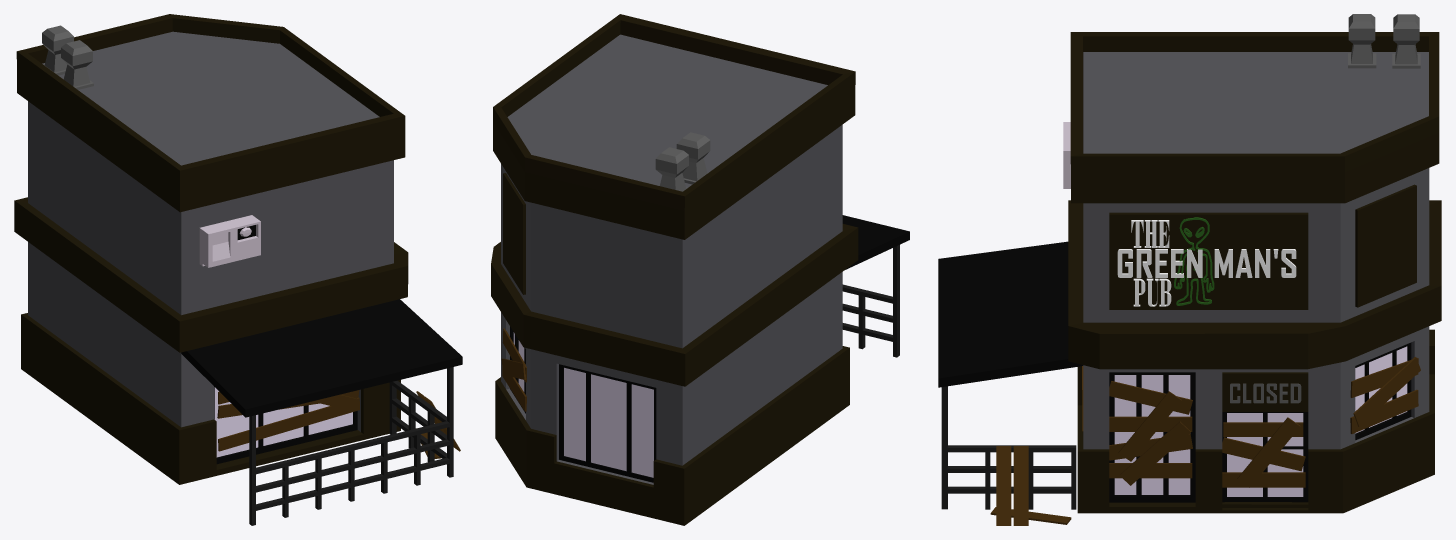
File: closed_bar.fbx
3 views of the same model, side by side, from view 1: azimuth 30°, elevation 25°; view 2: azimuth 150°, elevation 25°; view 3: azimuth 270°, elevation 25° (orthographic). The views are drawn at different scales.
Parts seen in each view (by area): view 1: closed bar; view 2: closed bar; view 3: closed bar.
Part boxes in pixels (left/top/right/bottom): closed bar: left=14, top=14, right=462, bottom=525; closed bar: left=491, top=14, right=909, bottom=525; closed bar: left=938, top=14, right=1441, bottom=525.
Size of the model in its own units: 1545 by 2027 by 2391.
